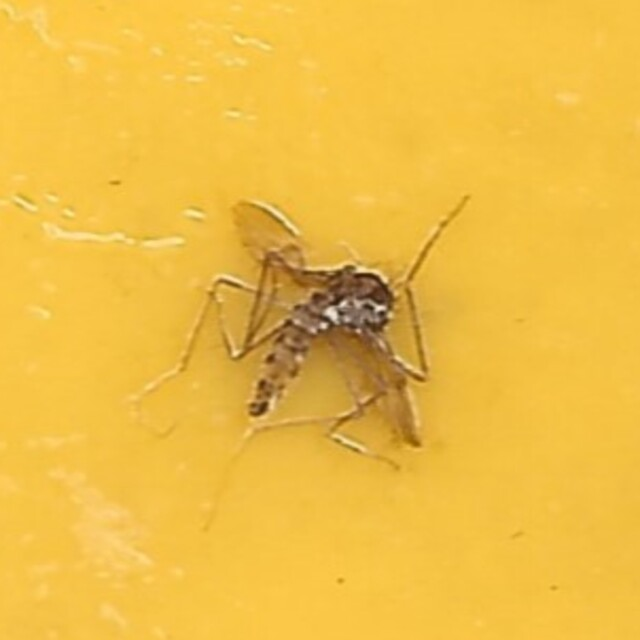Nematocera: (212, 192, 428, 448)
